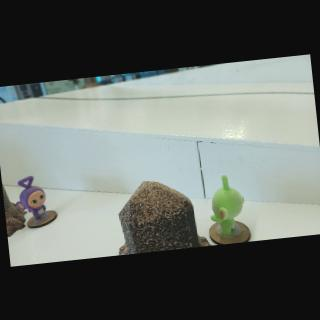teletubby: (211, 175, 243, 235), (16, 176, 45, 220)
